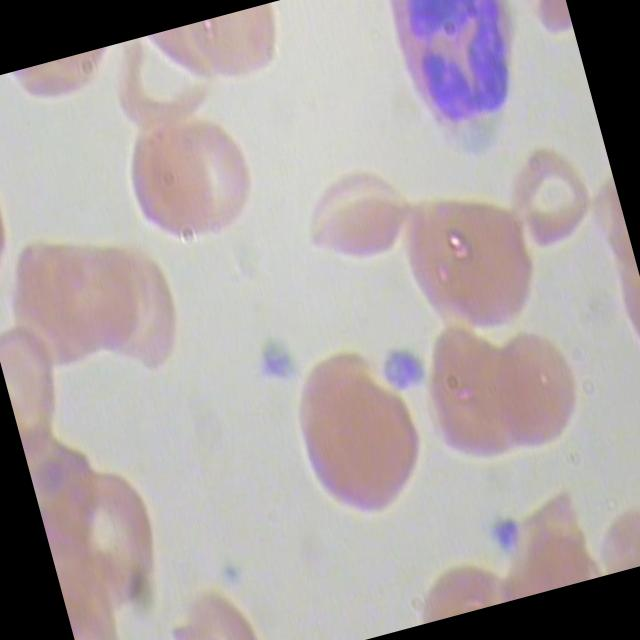Platelets: (369, 0, 554, 151), (376, 331, 439, 402), (248, 329, 312, 395), (484, 511, 530, 559)
RBC: (277, 336, 446, 538), (390, 164, 554, 353), (407, 310, 541, 476), (69, 222, 192, 386), (290, 160, 429, 293), (156, 101, 276, 254), (106, 107, 226, 260), (472, 320, 598, 465), (499, 130, 610, 262), (159, 575, 268, 640)
